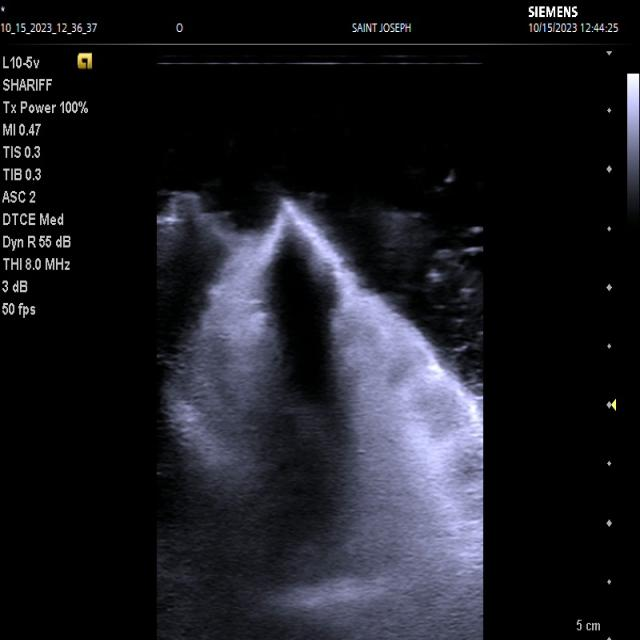tissue: (158, 194, 484, 640)
